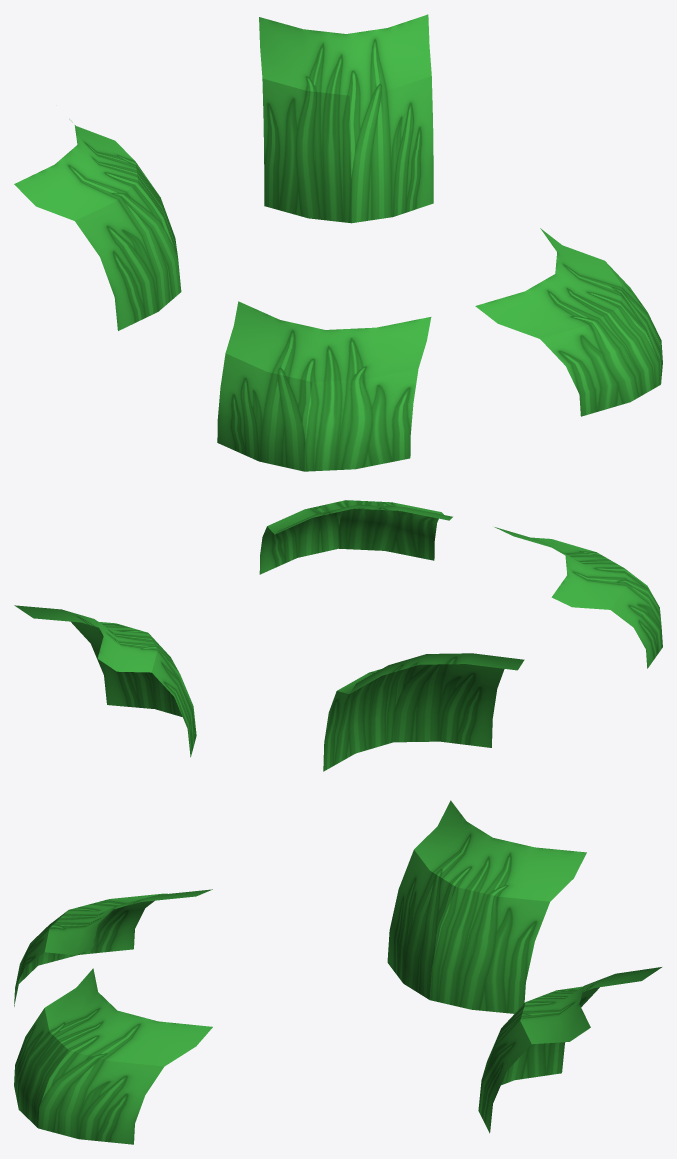
Rendered from grass2.fbx.
The picture shows the model from 3 angles, top to bottom: view 1: azimuth 30°, elevation 25°; view 2: azimuth 150°, elevation 25°; view 3: azimuth 270°, elevation 25°; orthographic projection. The views are drawn at different scales.
Parts seen in each view (by area): view 1: Grass2; view 2: Grass2; view 3: Grass2.
Part boxes in pixels (x1,y1,x2,y2): Grass2: (14, 14, 662, 471); Grass2: (14, 500, 662, 771); Grass2: (14, 800, 661, 1144).
Bounding box in the file's own units: 1.81 × 0.5107 × 2.22.
